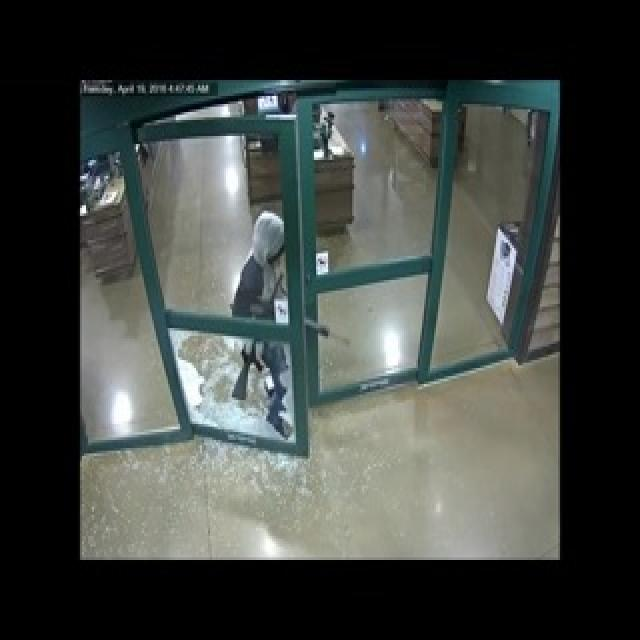thief: (218, 201, 290, 445)
